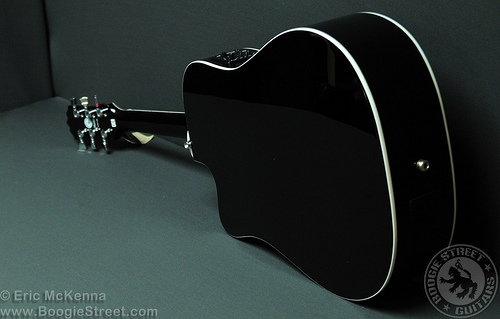guitar: (65, 12, 456, 304)
